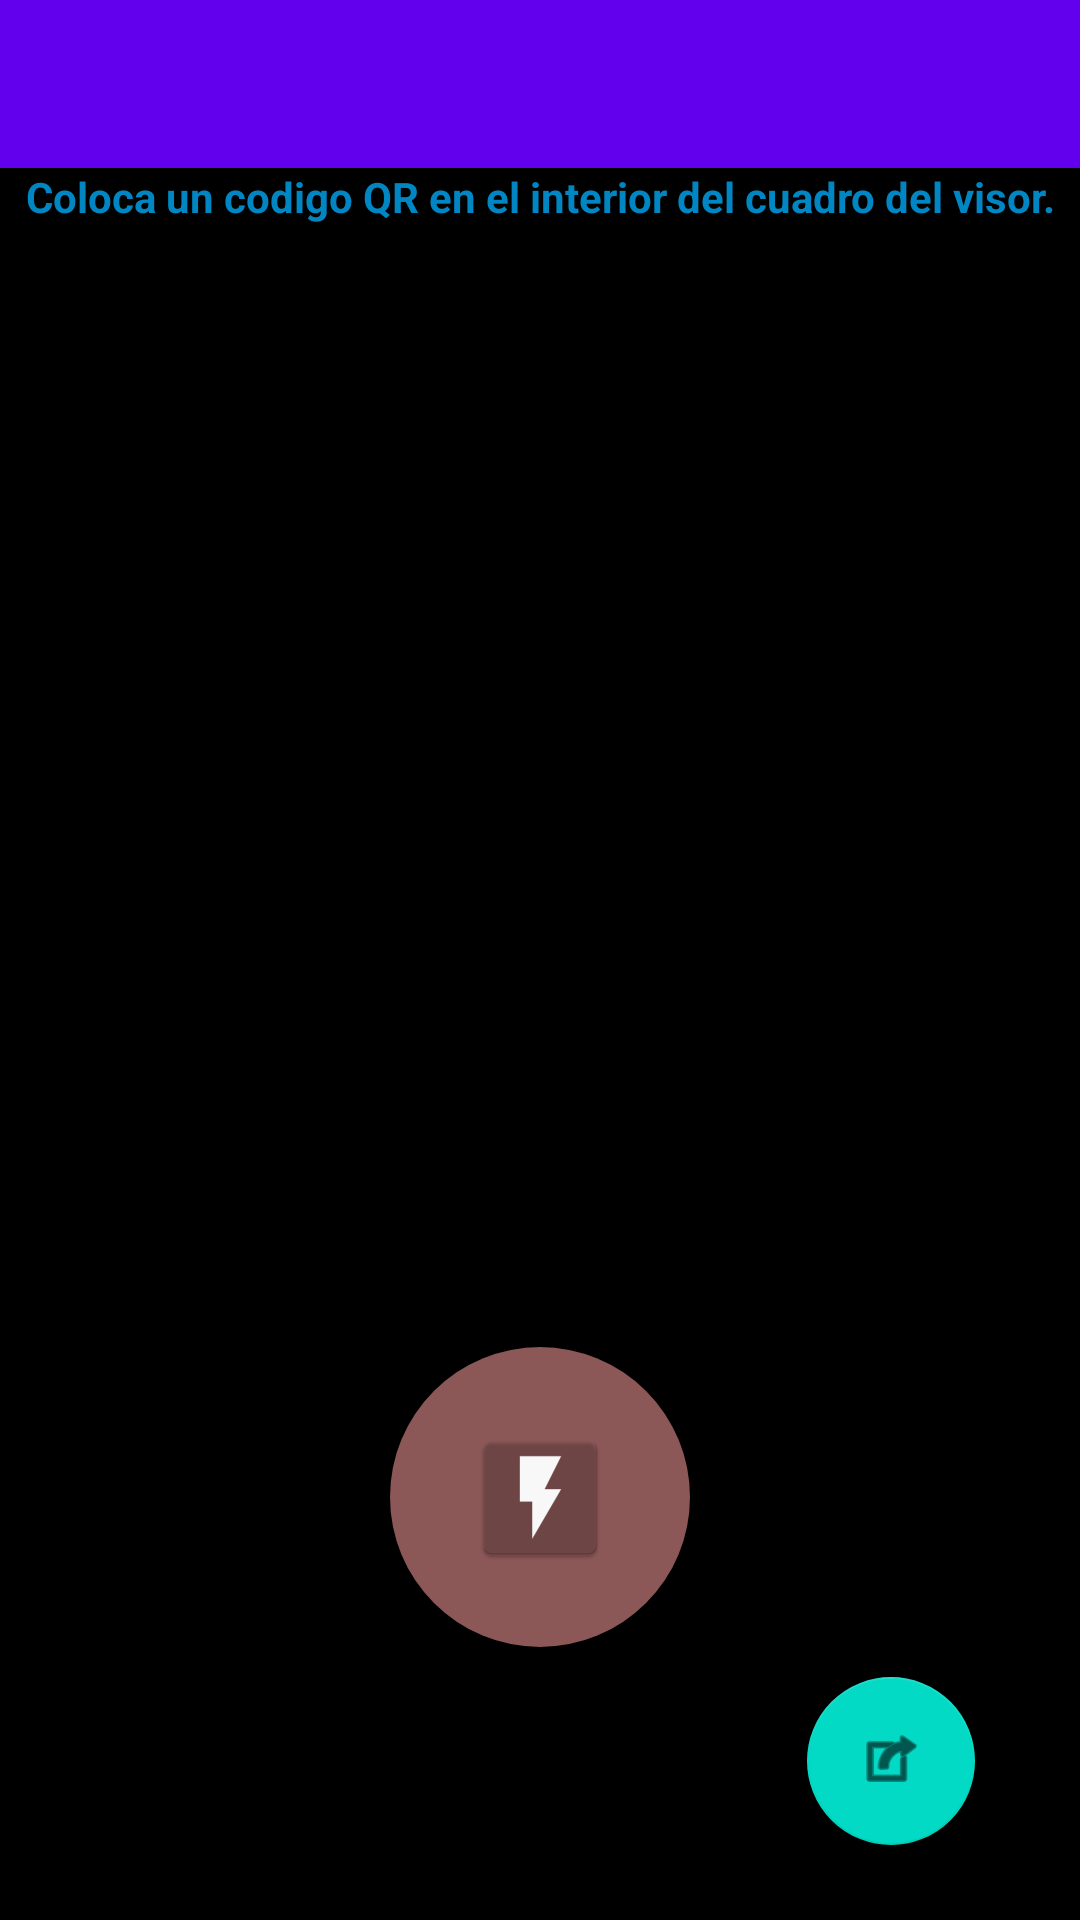

Screen size 1080 x 1920. Icon name, then its center in pixels as [x,y]:
set as: [891,1761]
